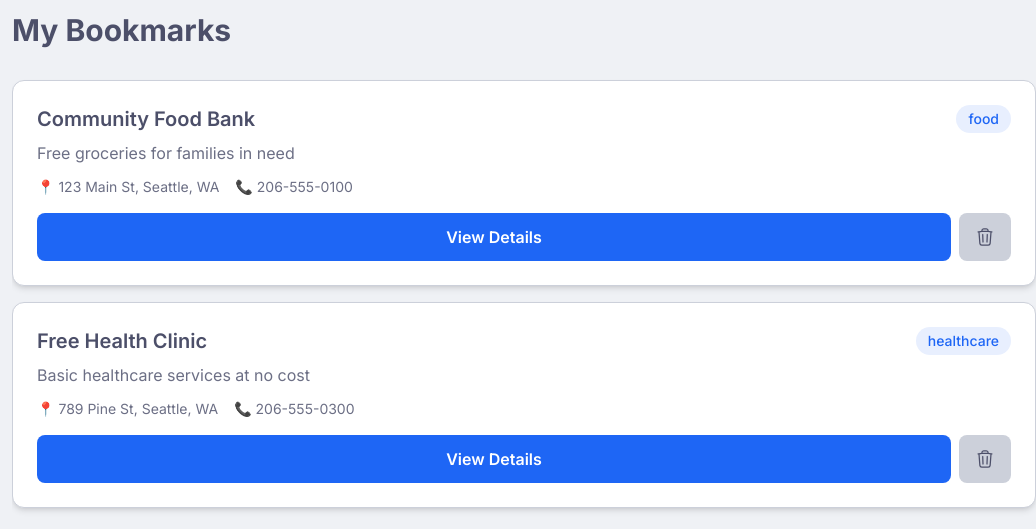
Test: Bookmarks Page Tests › Remove Bookmark Functionality › should remove bookmark from list after successful deletion
The image size is (1036, 529).
Expected: the heading "Community Food Bank" is shown, [37,105,255,133]
Expected: the heading "Free Health Clinic" is shown, [37,327,207,355]
Click the button named "remove bookmark".
click(985, 237)  # box [959,213,1011,261]
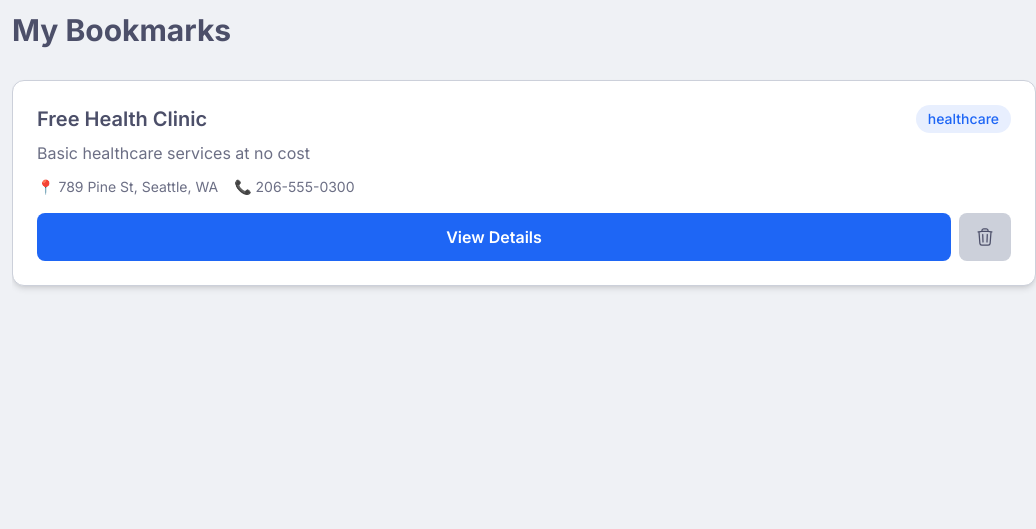
Expected: the heading "Free Health Clinic" is shown, [37,105,207,133]
Expected: the heading "Community Food Bank" is gone
